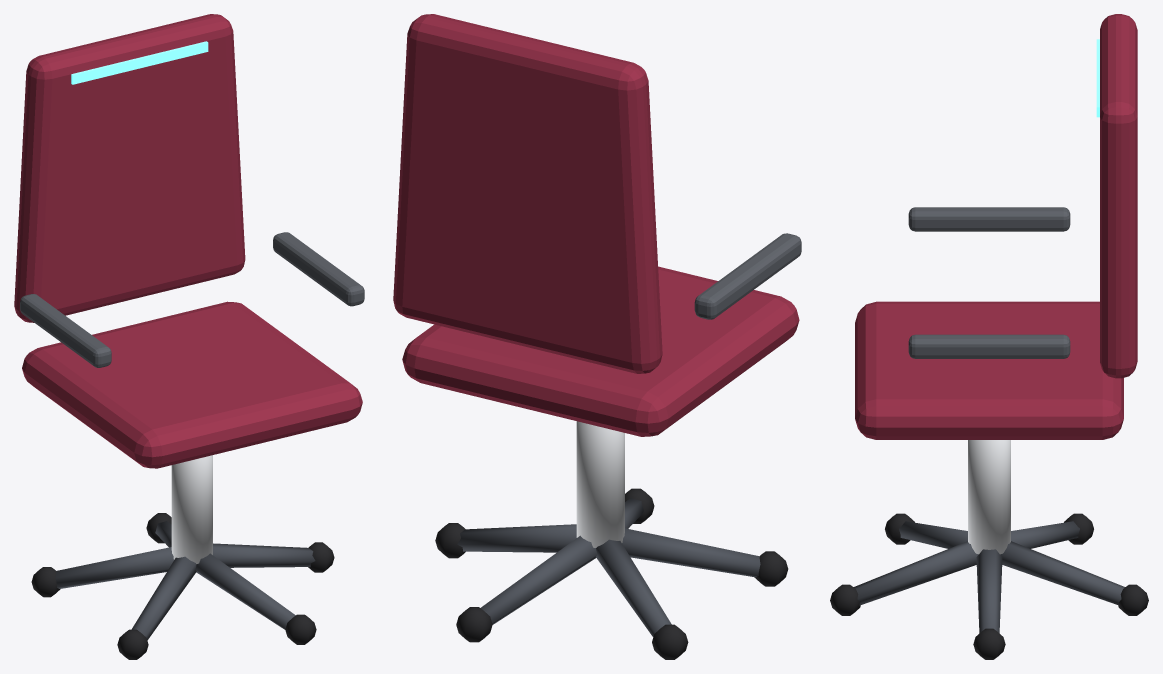
Rendered from office_chair_task.glb.
The picture shows the model from 3 angles, left to right: view 1: azimuth 30°, elevation 25°; view 2: azimuth 150°, elevation 25°; view 3: azimuth 270°, elevation 25°; orthographic projection. The views are drawn at different scales.
Visible parts, largest first — view 1: GD_office_chair_task__m3, GD_office_chair_task__m0, GD_office_chair_task__m5, GD_office_chair_task__m2, GD_office_chair_task__m1, GD_office_chair_task__m4; view 2: GD_office_chair_task__m3, GD_office_chair_task__m0, GD_office_chair_task__m2, GD_office_chair_task__m1, GD_office_chair_task__m5; view 3: GD_office_chair_task__m3, GD_office_chair_task__m0, GD_office_chair_task__m5, GD_office_chair_task__m2, GD_office_chair_task__m1.
Part boxes in pixels (bbox=[...]): GD_office_chair_task__m3: bbox=[14, 14, 362, 468]; GD_office_chair_task__m0: bbox=[55, 521, 315, 640]; GD_office_chair_task__m5: bbox=[20, 232, 364, 367]; GD_office_chair_task__m2: bbox=[171, 455, 212, 563]; GD_office_chair_task__m1: bbox=[31, 513, 334, 659]; GD_office_chair_task__m4: bbox=[71, 41, 208, 84]; GD_office_chair_task__m3: bbox=[393, 14, 799, 436]; GD_office_chair_task__m0: bbox=[457, 498, 760, 636]; GD_office_chair_task__m2: bbox=[576, 421, 624, 547]; GD_office_chair_task__m1: bbox=[435, 488, 788, 659]; GD_office_chair_task__m5: bbox=[694, 233, 801, 319]; GD_office_chair_task__m3: bbox=[855, 14, 1137, 439]; GD_office_chair_task__m0: bbox=[854, 521, 1124, 632]; GD_office_chair_task__m5: bbox=[908, 207, 1070, 358]; GD_office_chair_task__m2: bbox=[968, 440, 1010, 554]; GD_office_chair_task__m1: bbox=[830, 513, 1148, 659].
Bounding box in the file's own units: 0.606 × 1.1 × 0.5926.
